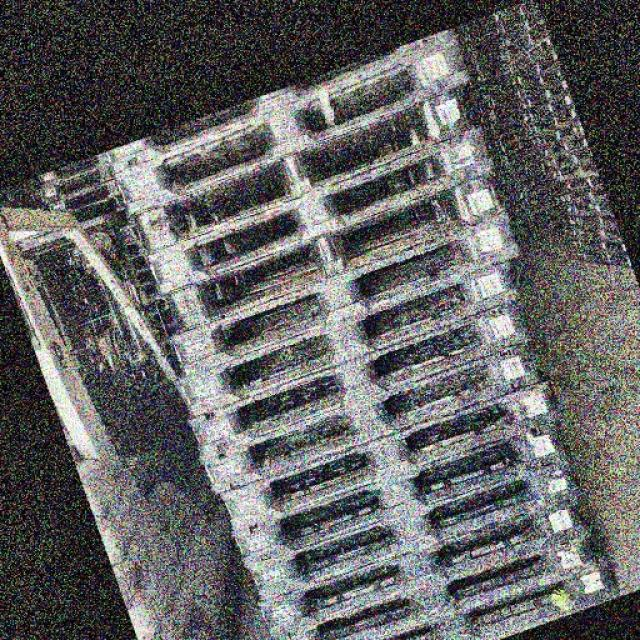igps: (92, 18, 476, 226), (140, 118, 545, 304), (127, 85, 521, 264), (182, 296, 569, 470), (164, 199, 521, 381), (192, 337, 550, 506), (149, 168, 506, 336), (173, 258, 529, 425), (213, 374, 564, 540), (223, 413, 587, 565), (245, 496, 616, 639), (234, 458, 602, 602), (233, 521, 639, 640), (253, 556, 627, 640)
